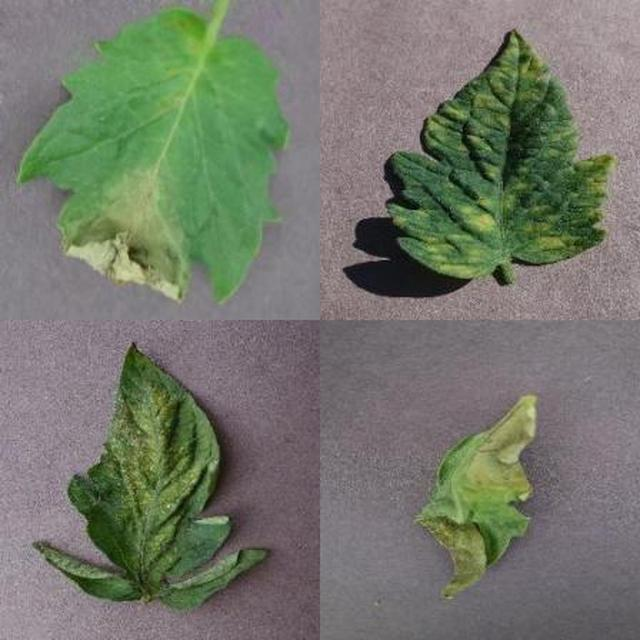Late Blight Leaf: (178, 219, 640, 640)
